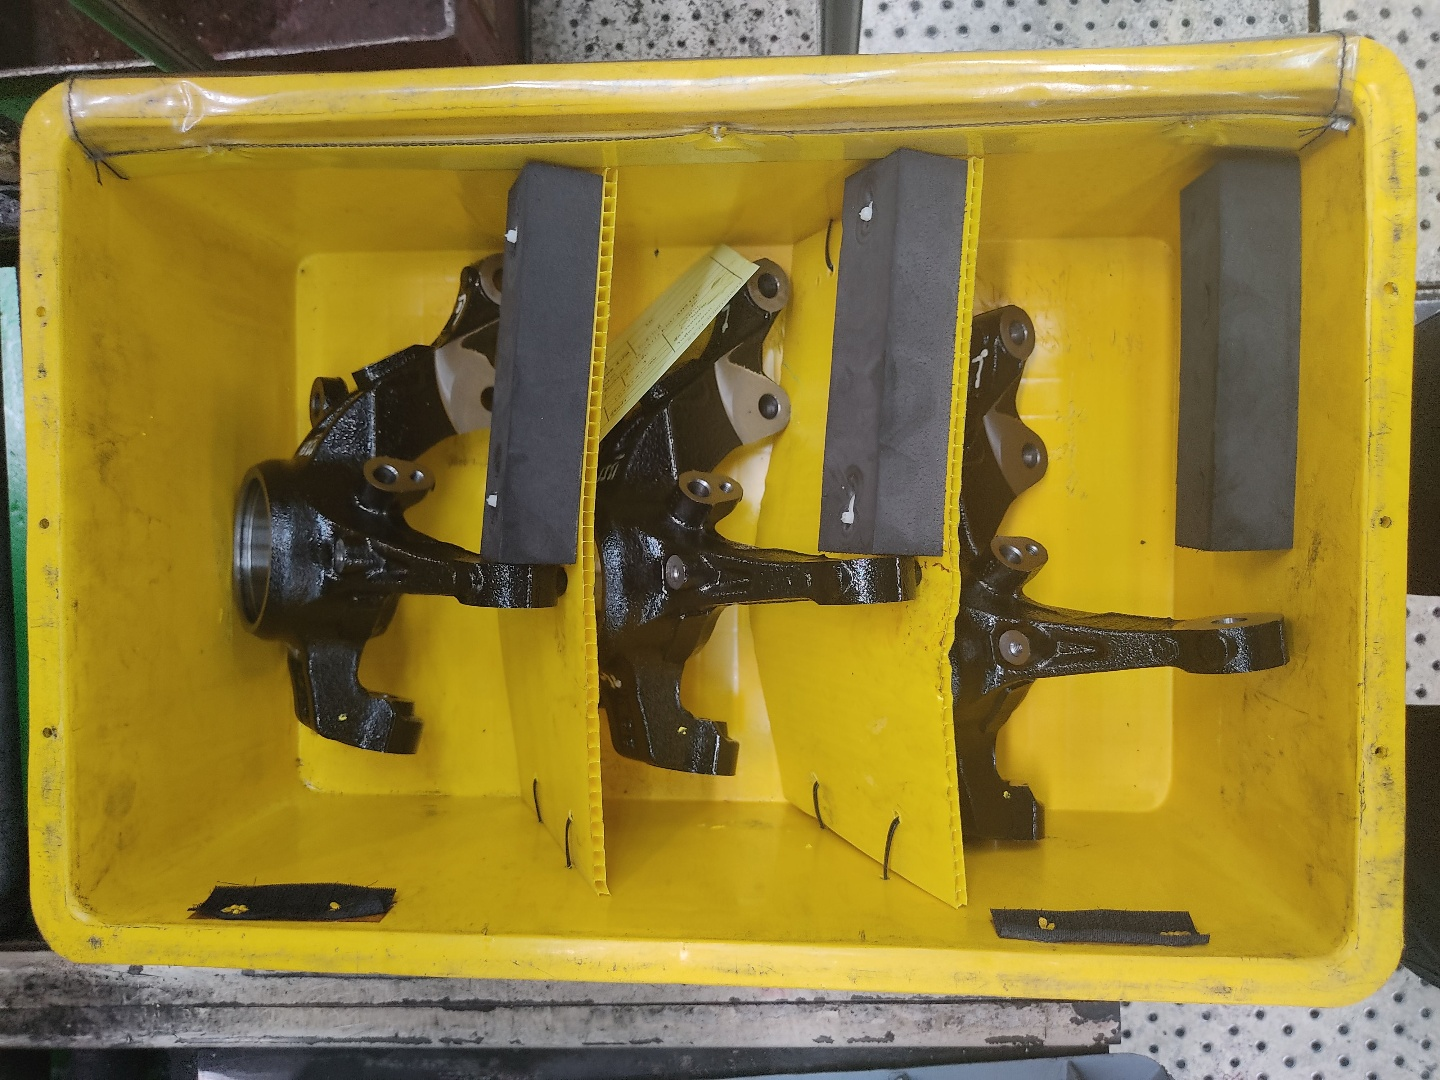abs-lh: (952, 298, 1296, 860), (583, 248, 929, 784), (226, 238, 574, 767)
